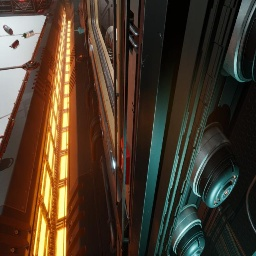0: (21, 30, 34, 38)
FireAlarm ,: (121, 137, 130, 185)
FireExtinguisher ]: (9, 40, 19, 49), (37, 9, 44, 14)
NitrogenTank ,: (3, 25, 13, 35)
SafetySwitchPanel ,: (78, 0, 84, 29)
